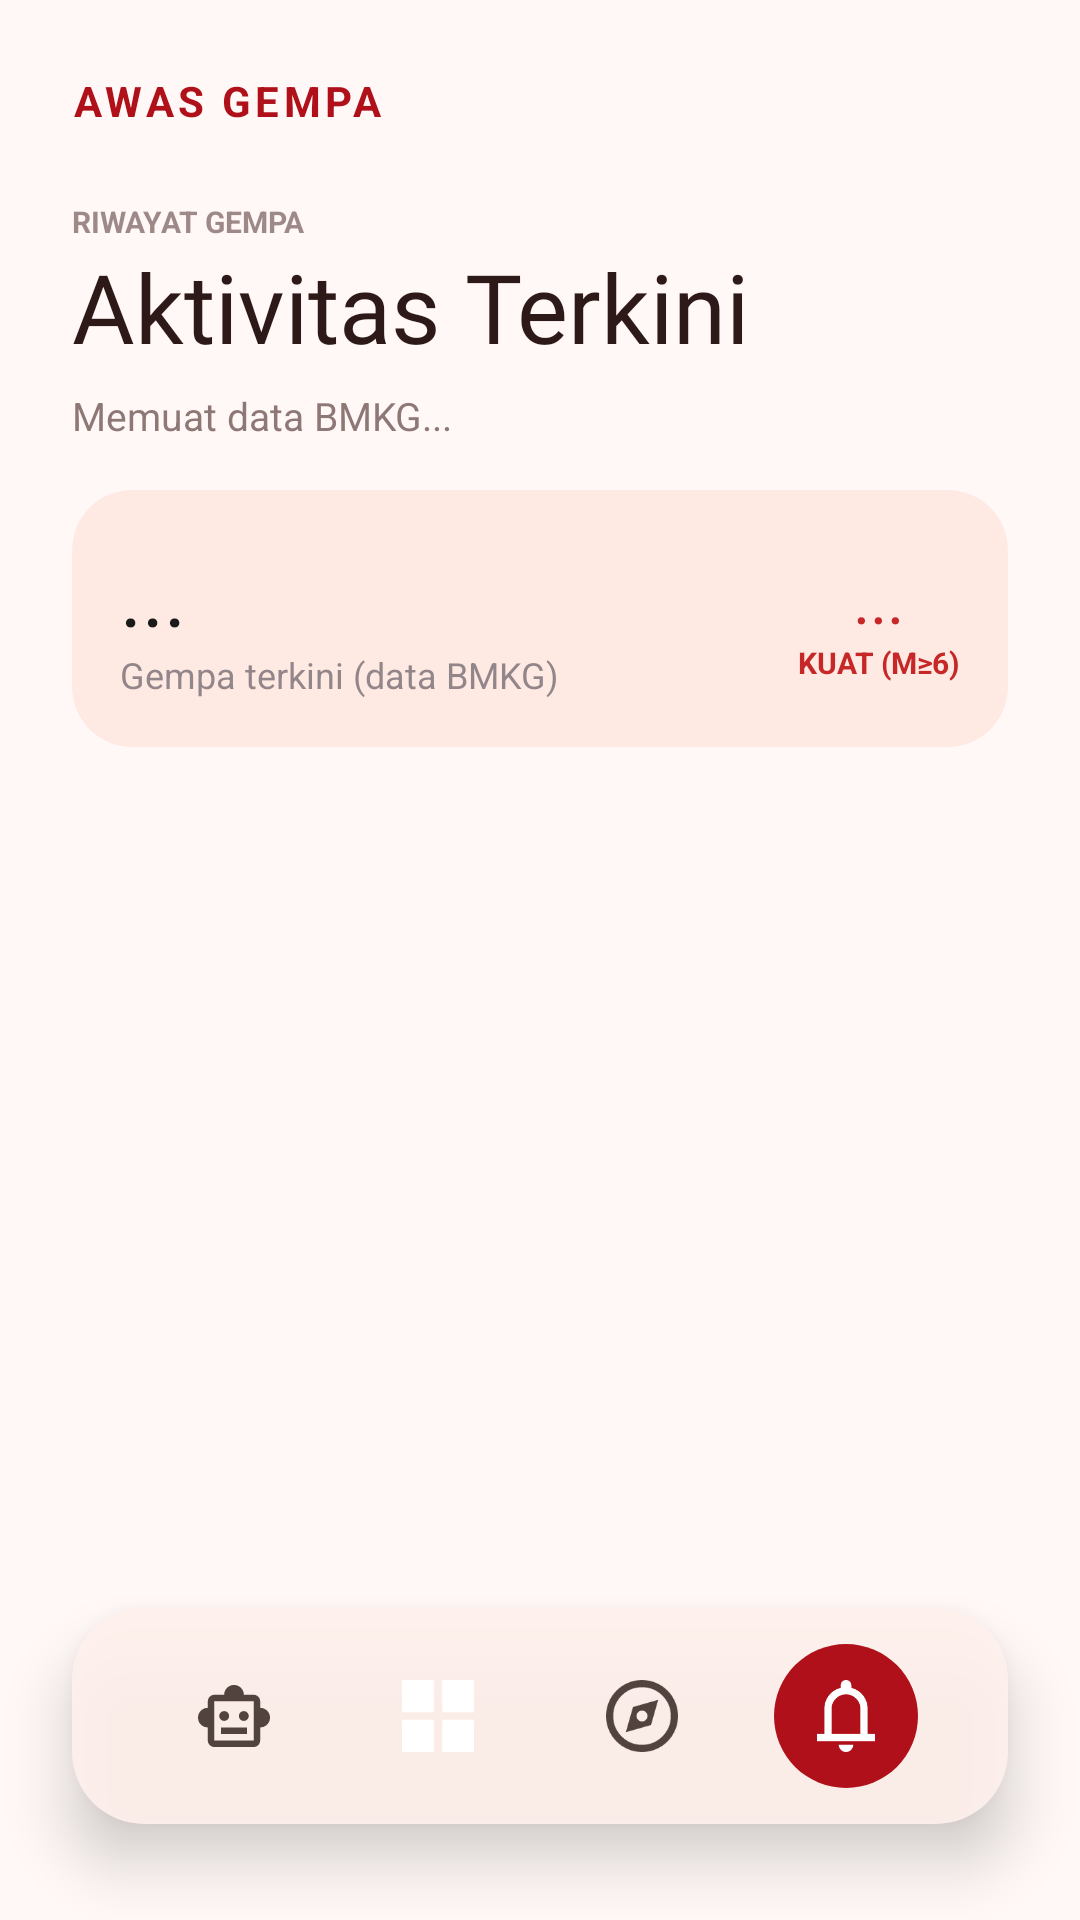

Named icons in this screenshot (1080 × 1920) and their centers, [x,y]:
explore: [642,1716]
notifications: [846,1716]
robot: [234,1716]
